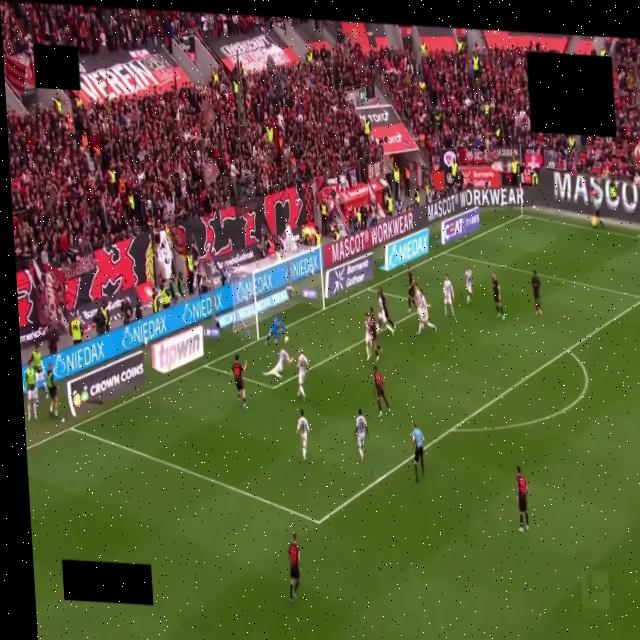ball: (285, 336, 288, 342)
player: (416, 286, 436, 335), (516, 466, 529, 532), (373, 366, 390, 416), (288, 534, 300, 603), (264, 350, 292, 378), (378, 288, 395, 334), (232, 355, 246, 409), (355, 409, 368, 460), (296, 410, 309, 461), (368, 308, 380, 360), (297, 349, 309, 400), (265, 316, 286, 344), (492, 273, 504, 320), (443, 274, 454, 319), (407, 265, 417, 312), (532, 271, 542, 315), (365, 314, 371, 361), (465, 267, 472, 304)
referee: (412, 423, 424, 482)
